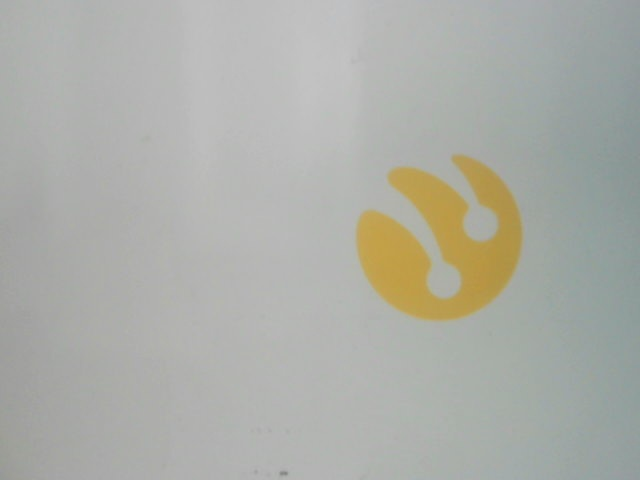AV_H3600Yellow: (348, 146, 534, 321)
